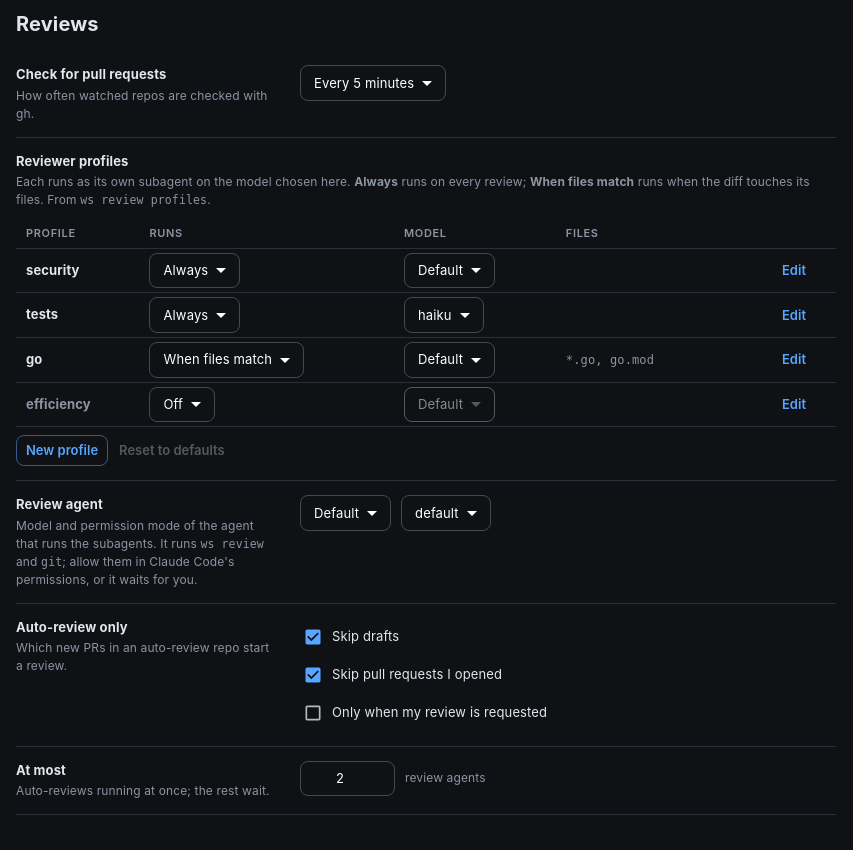
Test case: SettingsPane › shows a failed save under its control and keeps the old value
Replace the text in the number field named "Auto-reviews at once" with "0" at (348, 778), box [300,760,395,796]
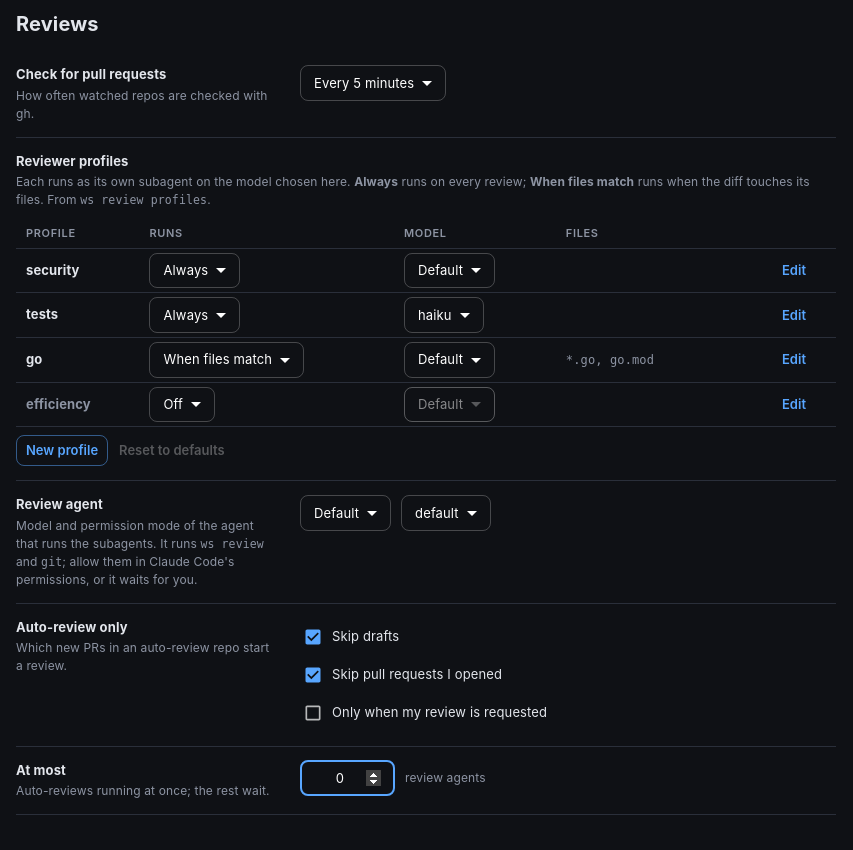
Press Tab
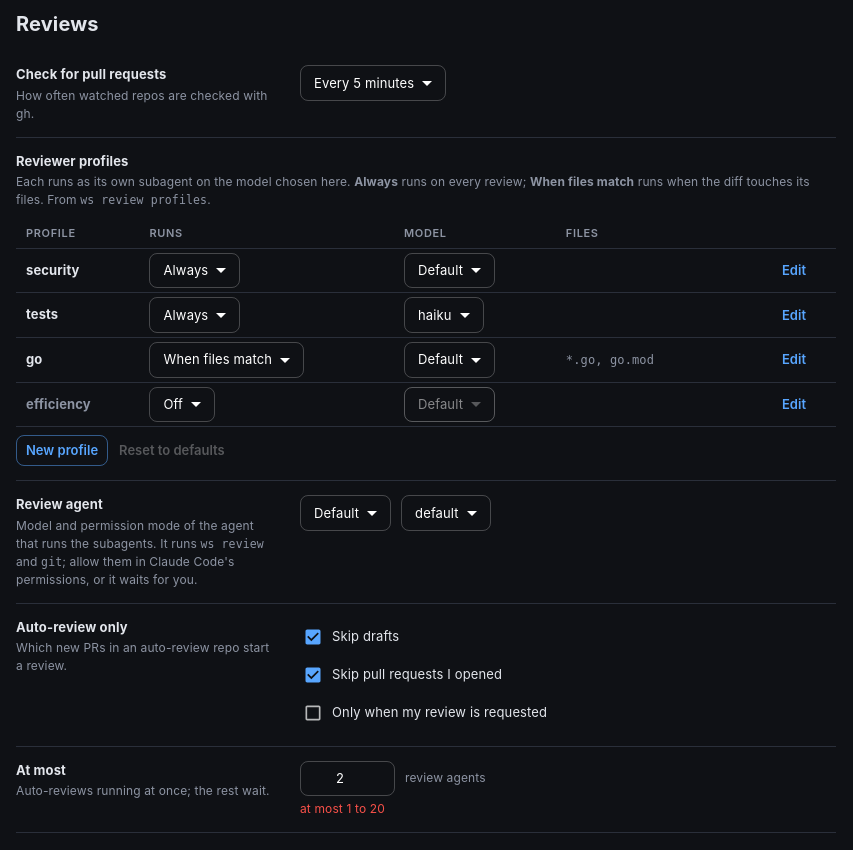
Now the message reads "at most 1 to 20", box [300,801,385,816]
Now the number field named "Auto-reviews at once" holds "2", box [300,760,395,796]
